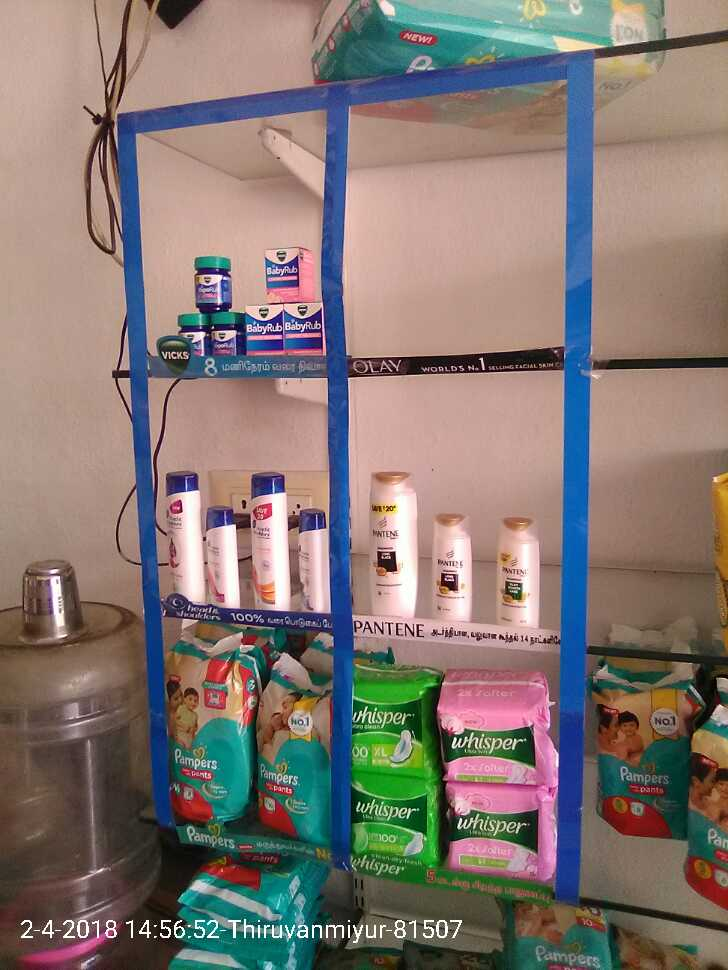vicks: (262, 249, 310, 301), (283, 302, 324, 351), (195, 256, 232, 310), (245, 306, 282, 351), (178, 314, 208, 356), (209, 313, 239, 355)
